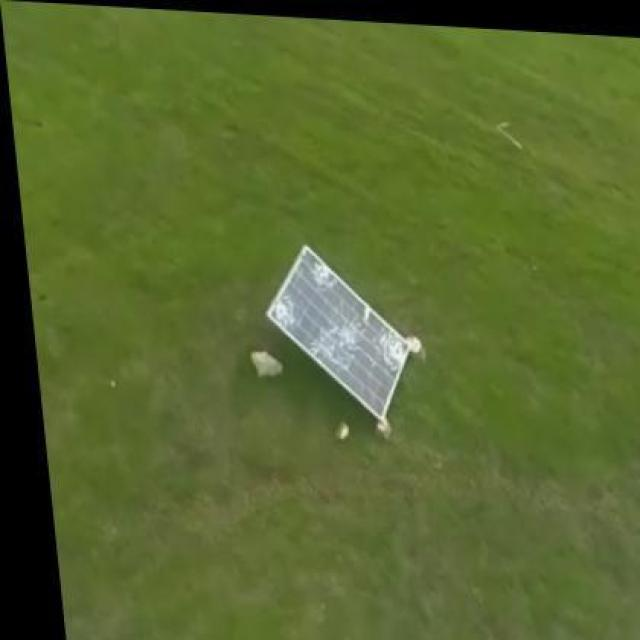cracked: (259, 244, 413, 426)
